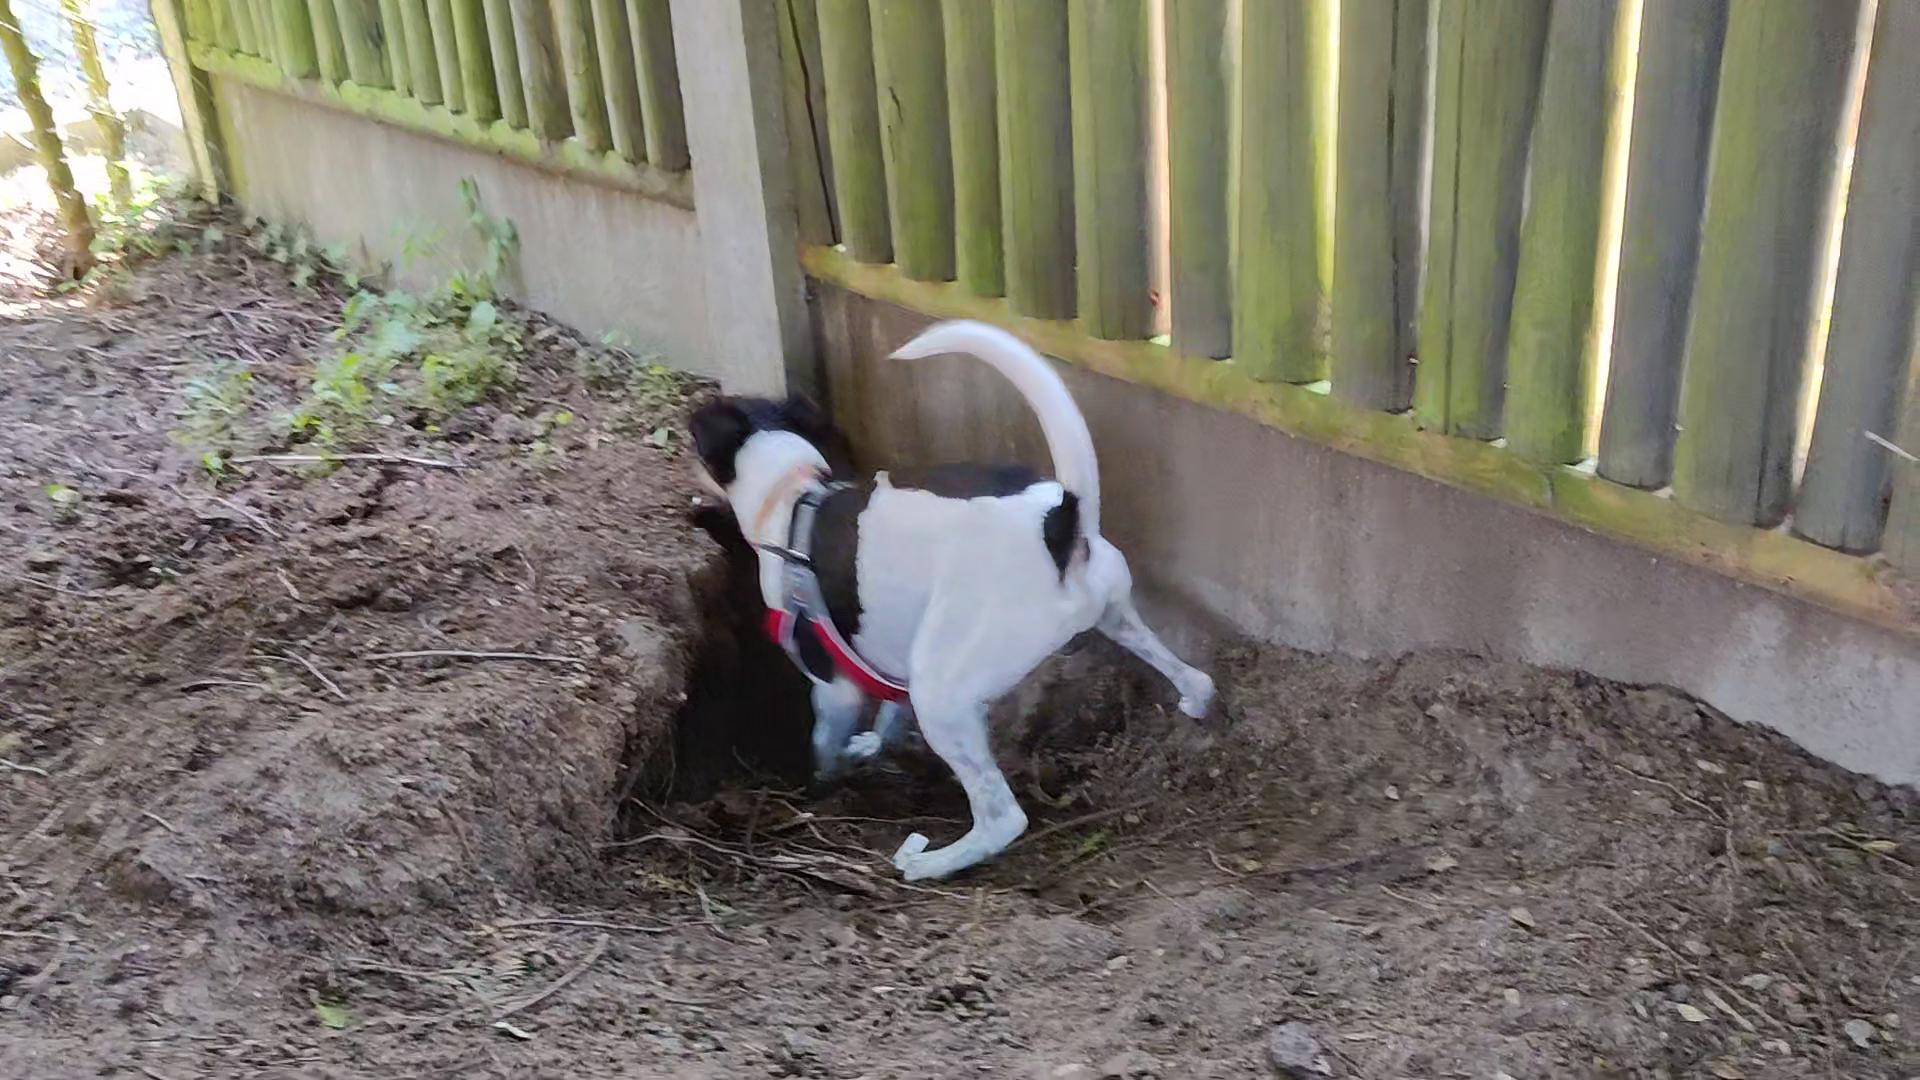Dog: (659, 270, 1229, 906)
